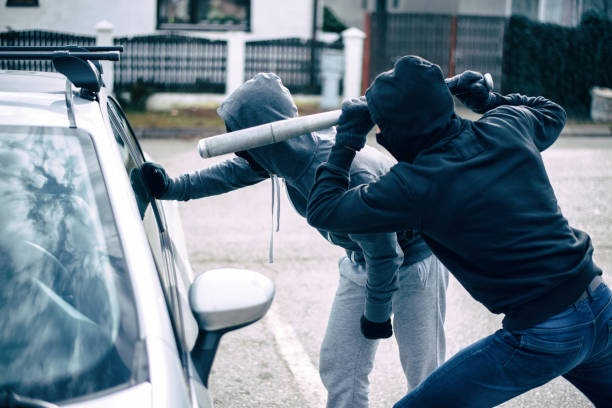bita: (194, 104, 356, 157)
